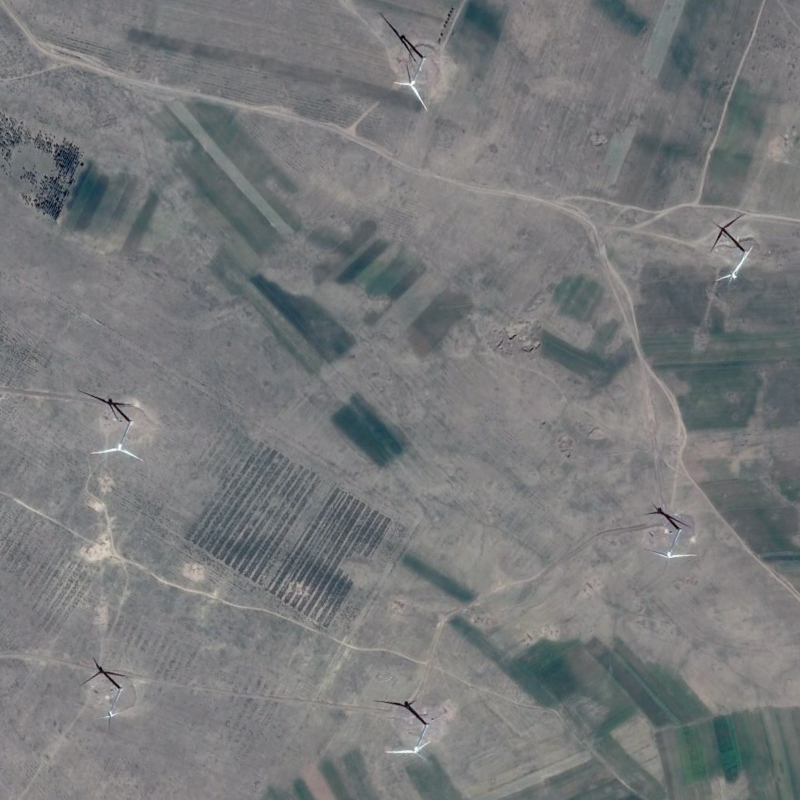windmill: (87, 416, 147, 463), (379, 720, 435, 768), (392, 54, 435, 110), (716, 243, 757, 289), (653, 526, 700, 561), (102, 688, 131, 733)
